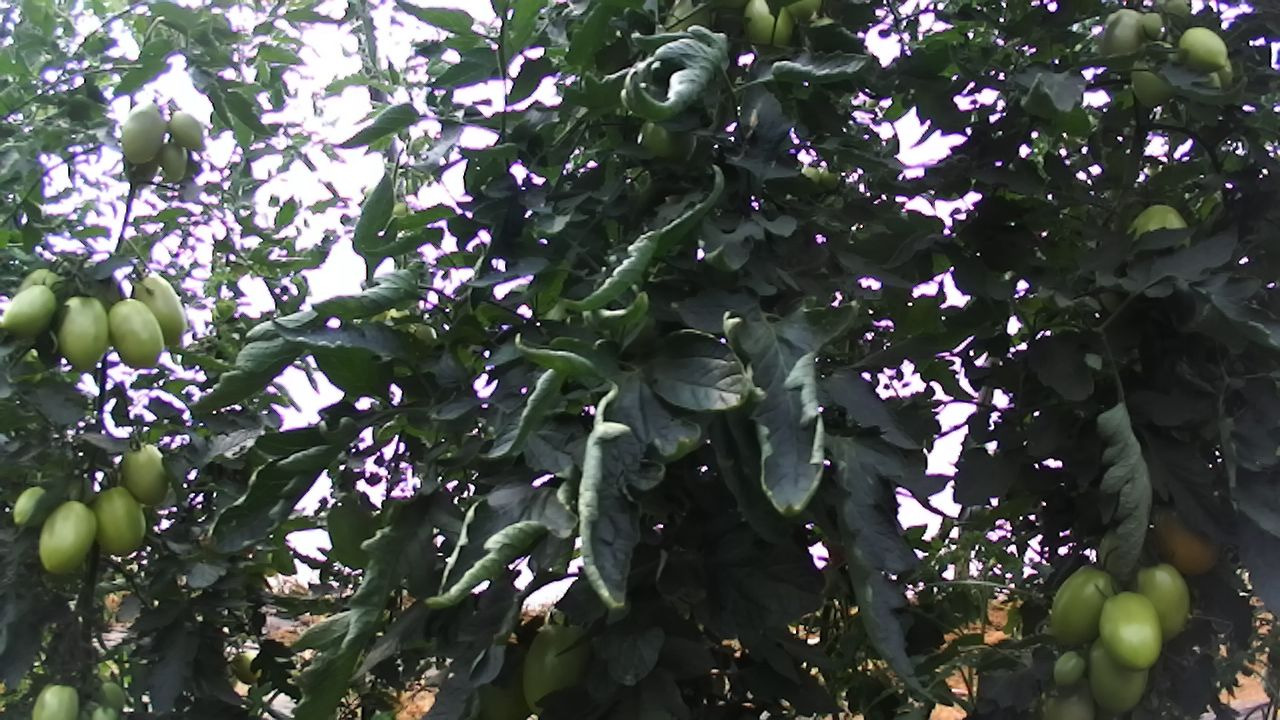tomato: (517, 618, 599, 719), (1146, 495, 1229, 581), (1080, 625, 1152, 715), (1047, 562, 1119, 648), (1096, 587, 1166, 673), (1124, 560, 1192, 646), (52, 290, 113, 376), (35, 499, 98, 582), (126, 270, 186, 348), (105, 296, 166, 372), (89, 483, 150, 558), (1095, 5, 1152, 70), (117, 439, 172, 506), (0, 280, 60, 334), (118, 101, 164, 166), (1174, 23, 1230, 74), (6, 476, 53, 536), (28, 681, 81, 720), (167, 107, 206, 153), (1050, 646, 1089, 689), (157, 137, 190, 184), (95, 678, 127, 710)
